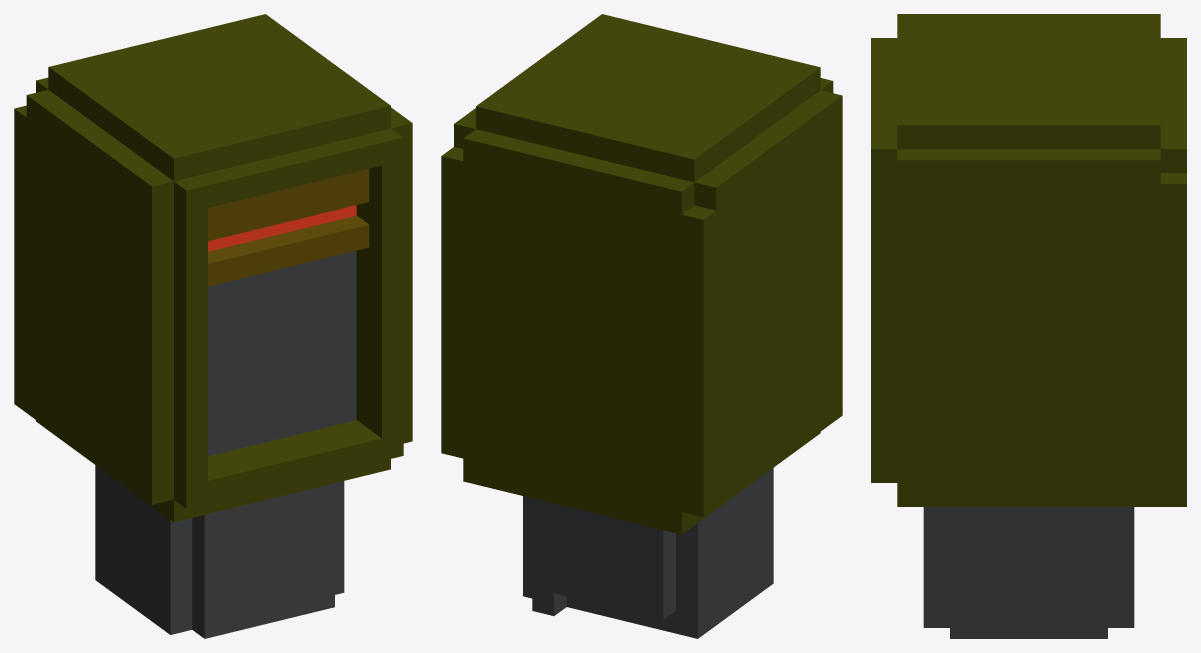
Rendered from Head-4.obj.
The picture shows the model from 3 angles, left to right: view 1: azimuth 30°, elevation 25°; view 2: azimuth 150°, elevation 25°; view 3: azimuth 270°, elevation 25°; orthographic projection. The views are drawn at different scales.
Size of the model in its own units: 1.2 by 2.2 by 1.2.
1 material, 1 textured.
